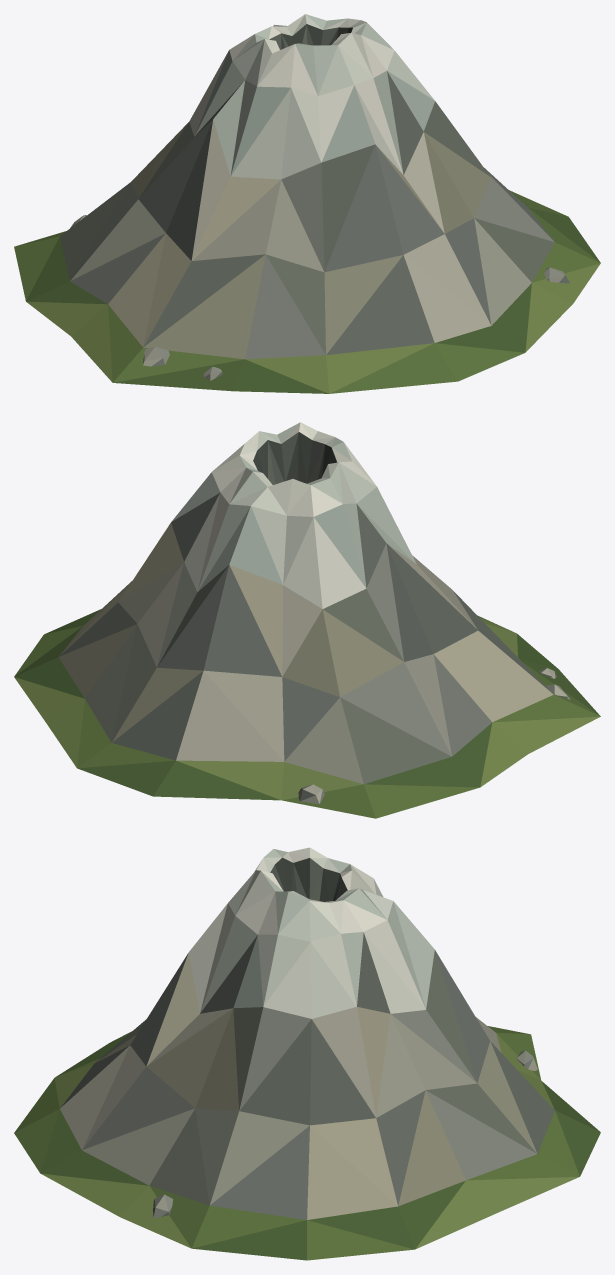
Rendered from volcan-araucania-v01.glb.
3 renders of one model, top to bottom at view 1: azimuth 30°, elevation 25°; view 2: azimuth 150°, elevation 25°; view 3: azimuth 270°, elevation 25°, orthographic. The views are drawn at different scales.
Visible parts, largest first — view 1: Volcan_Araucania_v01; view 2: Volcan_Araucania_v01; view 3: Volcan_Araucania_v01.
Boxes of the visible parts, left/top/right/bottom form: Volcan_Araucania_v01: left=14, top=14, right=600, bottom=393; Volcan_Araucania_v01: left=14, top=422, right=600, bottom=818; Volcan_Araucania_v01: left=14, top=847, right=600, bottom=1260.
Size of the model in its own units: 10.68 by 5.15 by 10.21.
